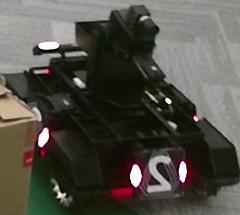armor_2: (130, 161, 188, 188)
front_2: (139, 150, 179, 197)
